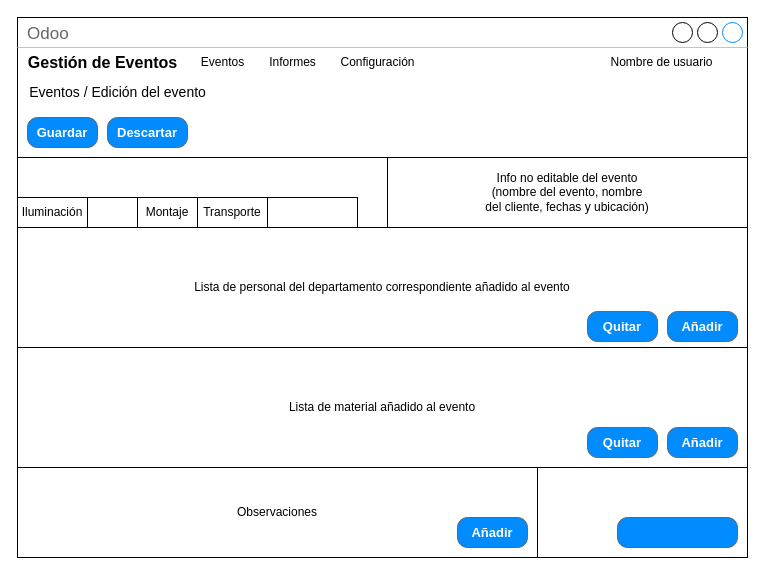
The diagram is 765 pixels wide and 575 high, and some of its shapes have lost their labels. The centre of each missing label's shape, as x and y in pixels:
"Adjuntar archivo" belongs at (677,532).
"Sonido" belongs at (112,212).
"Temporalización" belongs at (312,212).
